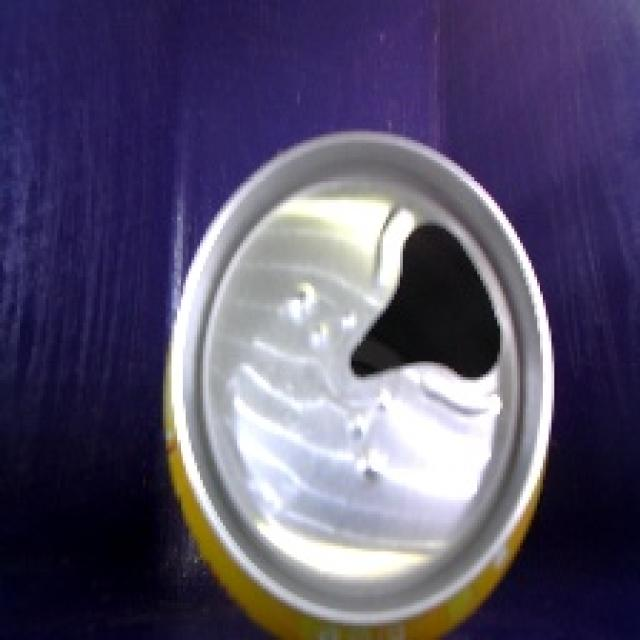metal: (142, 110, 561, 640)
